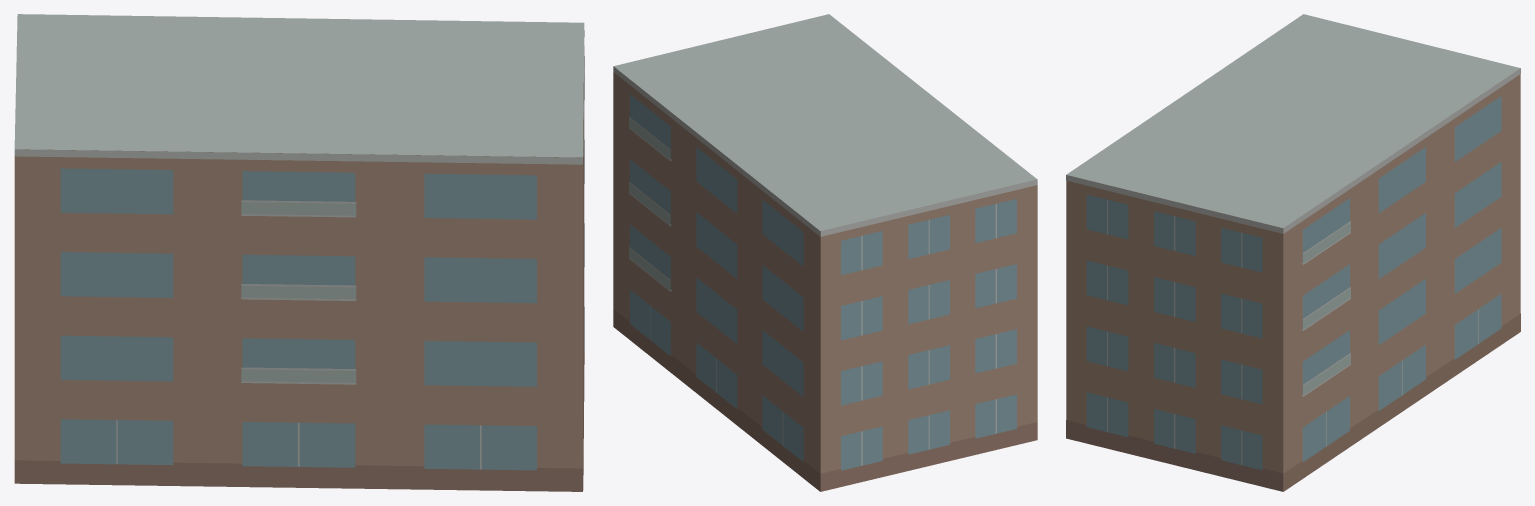
File: survey-upis-32674582.glb
3 views of the same model, side by side, from view 1: azimuth 30°, elevation 25°; view 2: azimuth 150°, elevation 25°; view 3: azimuth 270°, elevation 25° (orthographic). The views are drawn at different scales.
Visible parts, largest first — view 1: survey-upis-32674582.tmp; view 2: survey-upis-32674582.tmp; view 3: survey-upis-32674582.tmp.
Boxes of the visible parts, x1=… form: survey-upis-32674582.tmp: x1=14, y1=14, x2=584, y2=491; survey-upis-32674582.tmp: x1=613, y1=14, x2=1037, y2=491; survey-upis-32674582.tmp: x1=1066, y1=14, x2=1520, y2=491.
Bounding box in the file's own units: 19.71 × 11.3 × 17.67.
